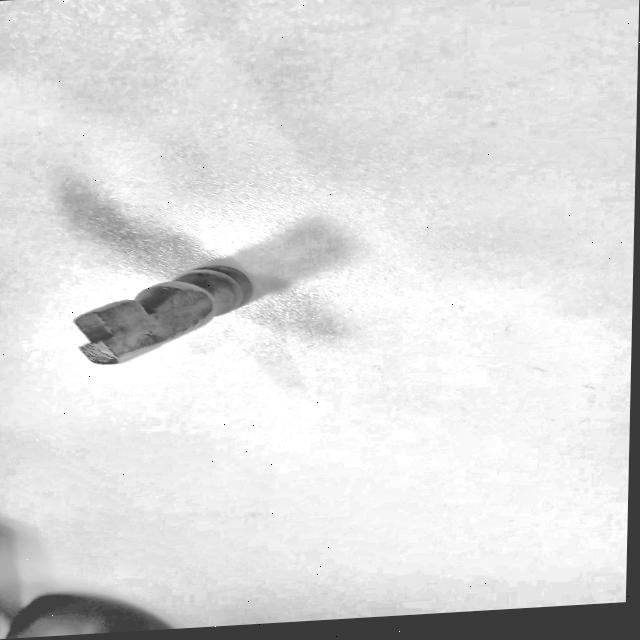black-knight: (69, 245, 267, 373)
